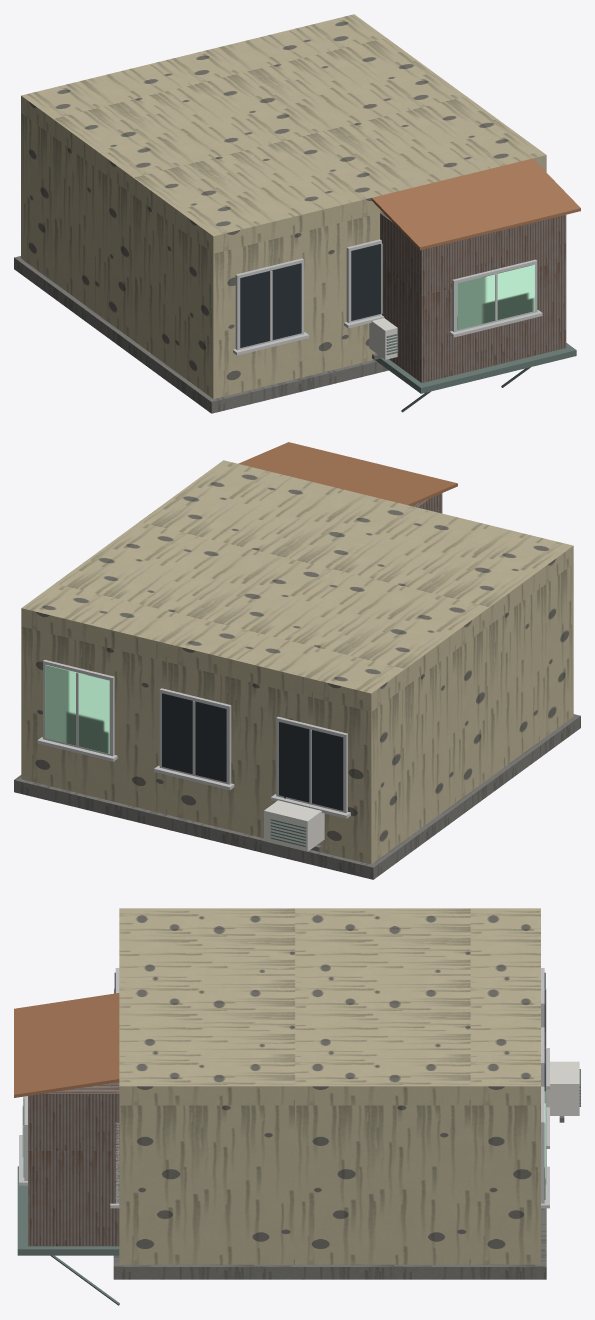
Rendered from floor_cream.glb.
3 renders of one model, top to bottom at view 1: azimuth 30°, elevation 25°; view 2: azimuth 150°, elevation 25°; view 3: azimuth 270°, elevation 25°, orthographic. The views are drawn at different scales.
Parts seen in each view (by area): view 1: floor_cream; view 2: floor_cream; view 3: floor_cream.
Part boxes in pixels (bbox=[...]): floor_cream: bbox=[14, 14, 580, 413]; floor_cream: bbox=[14, 442, 580, 879]; floor_cream: bbox=[14, 908, 580, 1305].
Bounding box in the file's own units: 6.16 × 3.81 × 8.07.
11 materials, 5 textured.
